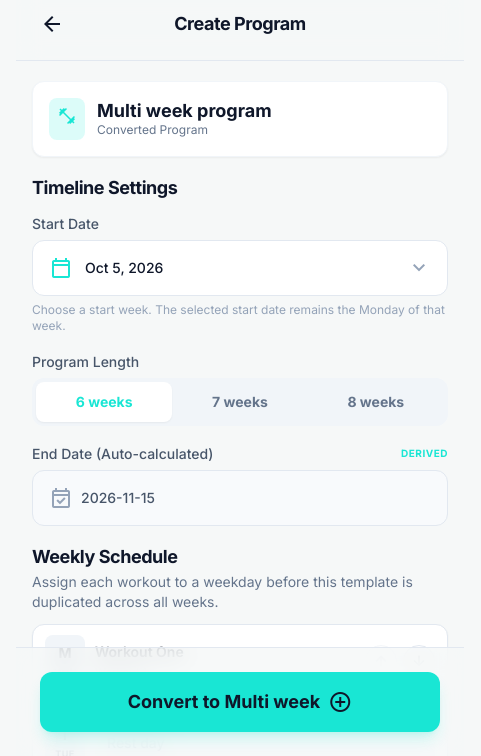
ManualConvert earliest Cycle start availability › duration 6 to 8 replaces an invalid selection with the new earliest valid Monday
This screenshot has width=481, height=756.
Click the button "8 weeks" at (376, 402), box x1=308 y1=382 x2=444 y2=422
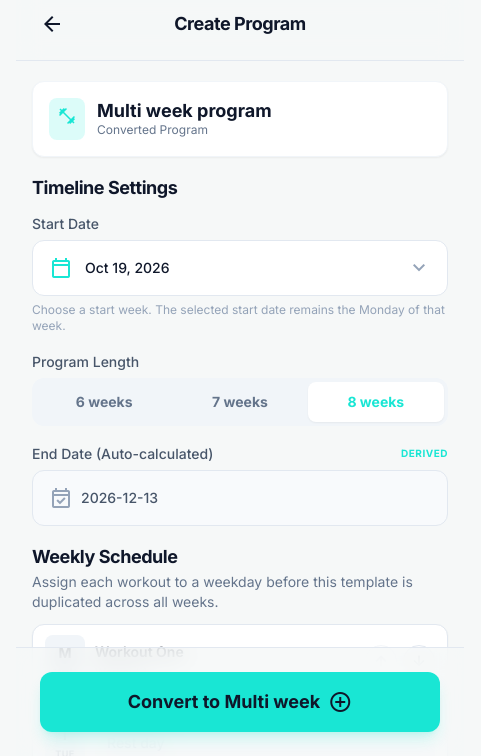
Now the button with aria-label "Select start week" reads "Oct 19, 2026", box x1=32 y1=240 x2=448 y2=296
